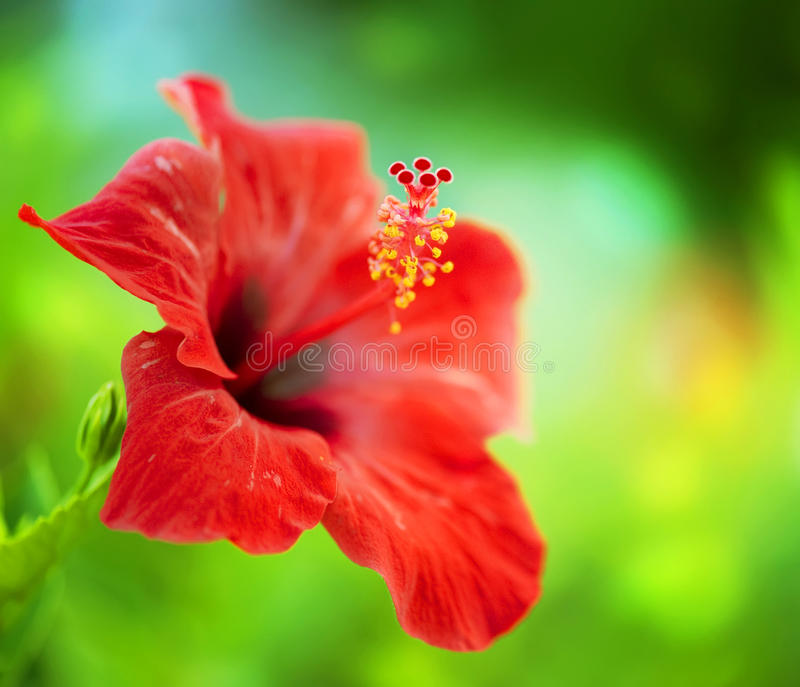Hibiscus: (10, 48, 616, 660)
